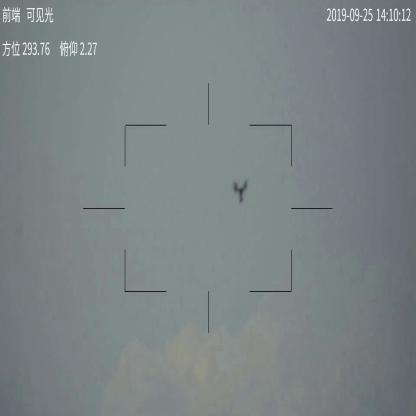uav: (231, 176, 250, 204)
